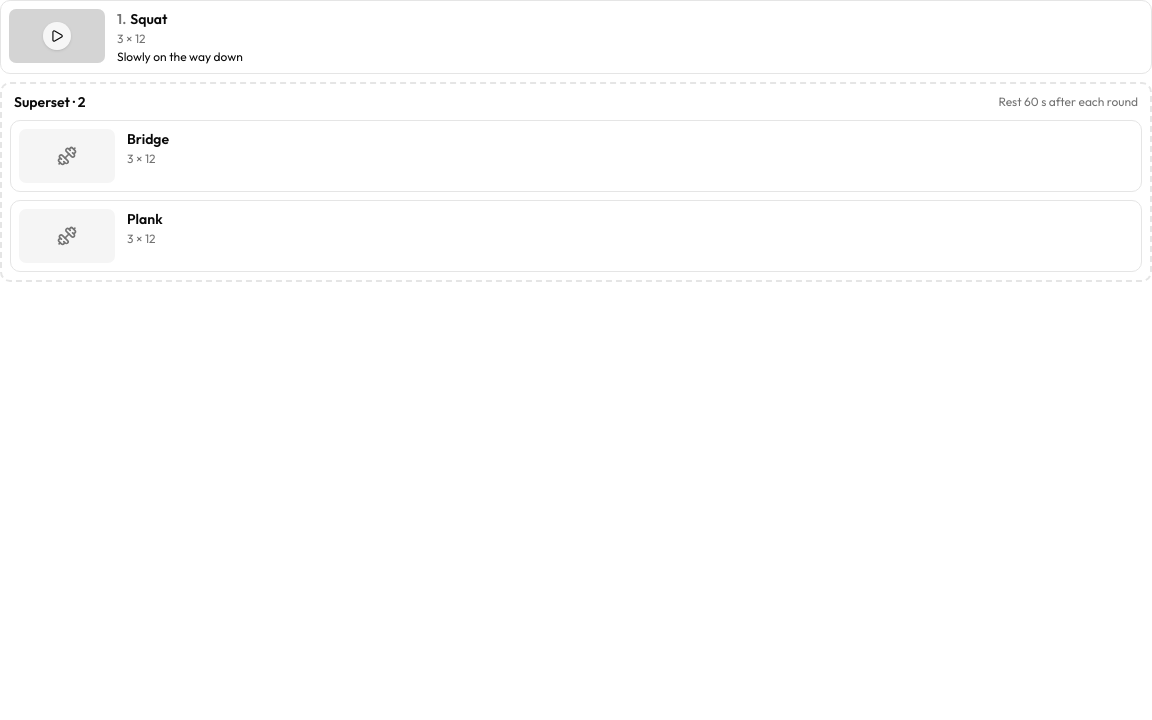
it: ExerciseList › opens the detail from the exercise name too
The width and height of the screenshot is (1152, 720).
What coordinates should you click on to do the following:
click the button "Bridge"
I would click on:
 (148, 139)
Its box is [127, 129, 169, 149].
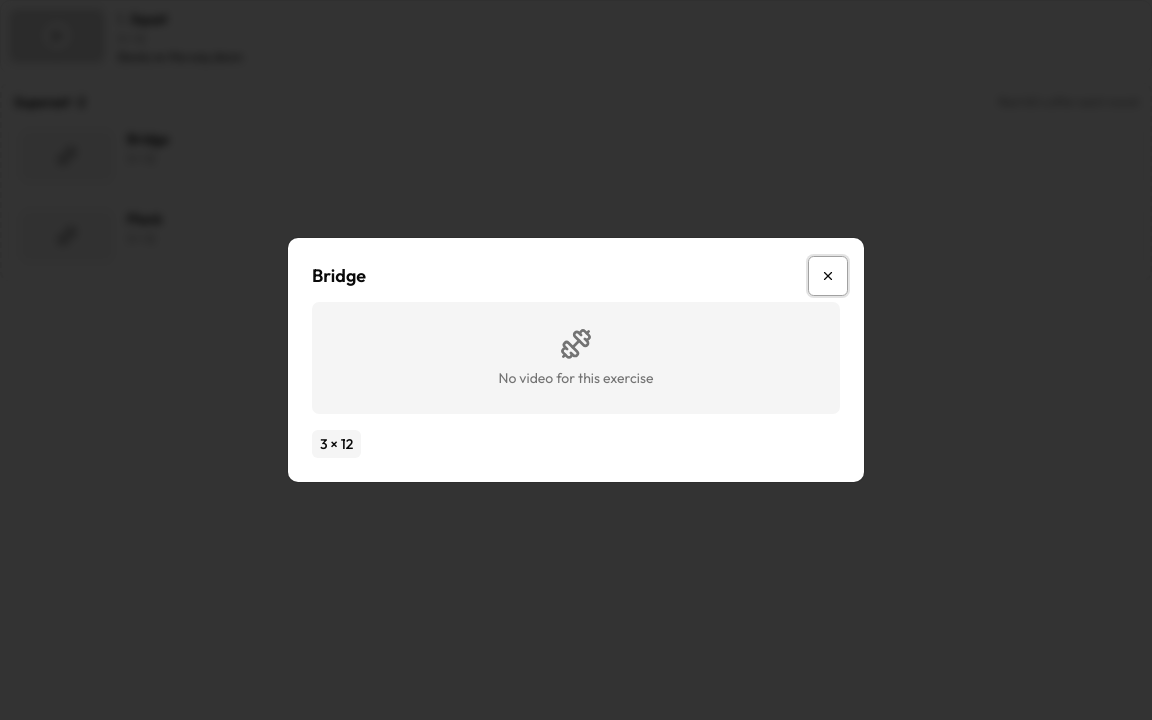
Check: the text "No video for this exercise" is shown, box [499, 368, 653, 388]
